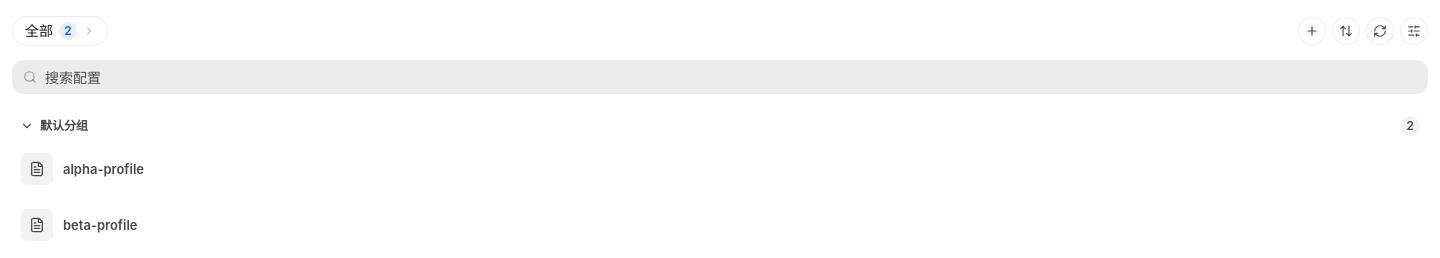
Test: PublishConfigPanel › 点击排序按钮后会切换发布配置拖拽手柄的常驻显示
The width and height of the screenshot is (1440, 258).
Check: the button "alpha-profile" is shown, box [8,144,1432,194]
Click the button named "开启排序" at (1346, 31), box [1332,17,1360,45]
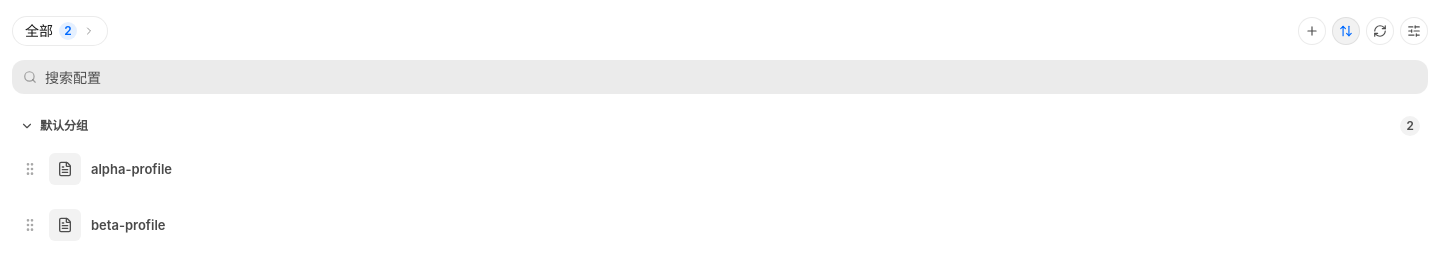
Check: the 1st button named "拖动排序" is shown, box [16,155,44,183]
